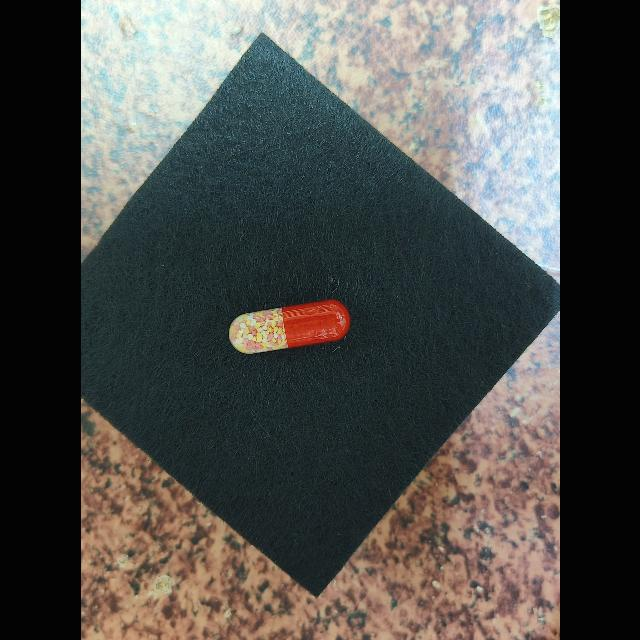Intact Capsule: (228, 299, 350, 354)
